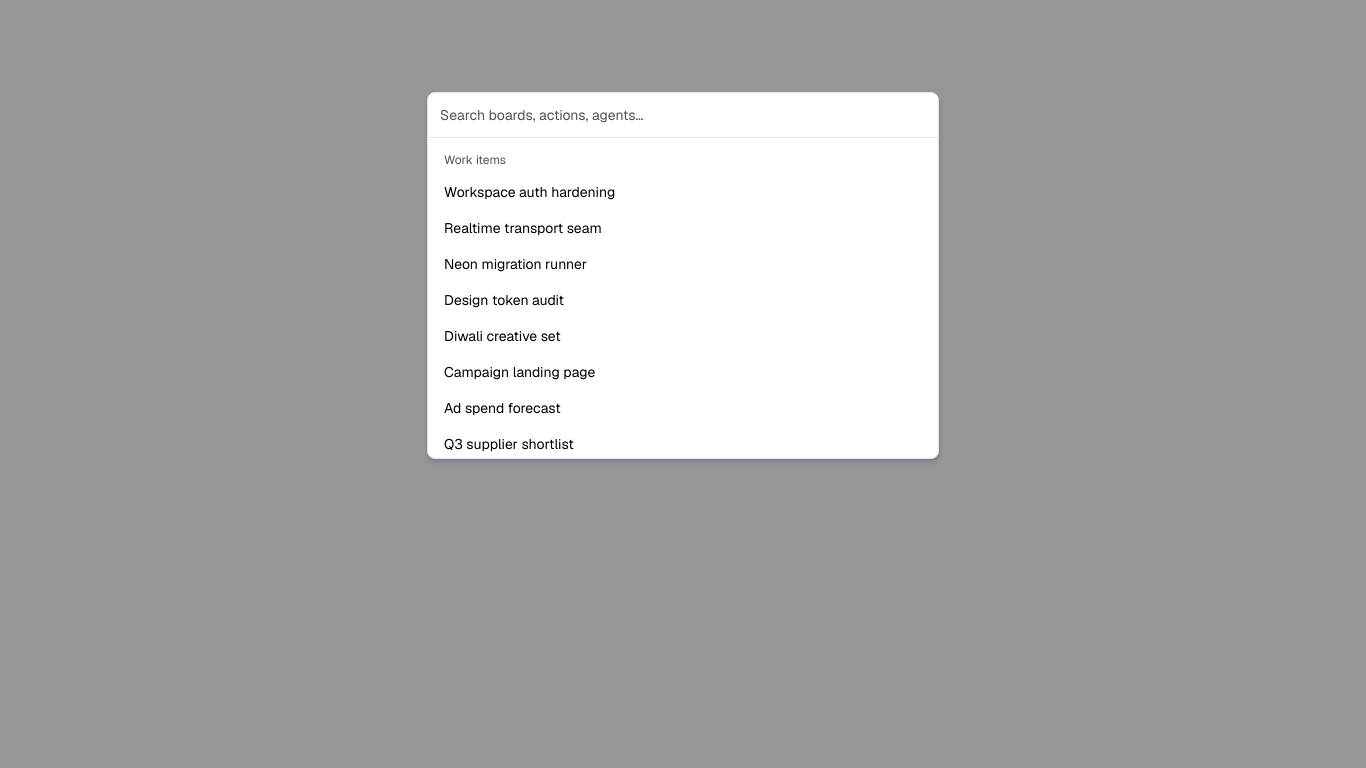
CommandPalette › matches a work item by its id (open-by-id)
Expected: the option "Realtime transport seam" is shown, [444,219,602,237]
# The item's id is folded into the cmdk value, so typing the raw id matches.
Step 1. Type "wi_realtime" into the dropdown → (683,116), box [428,93,938,138]
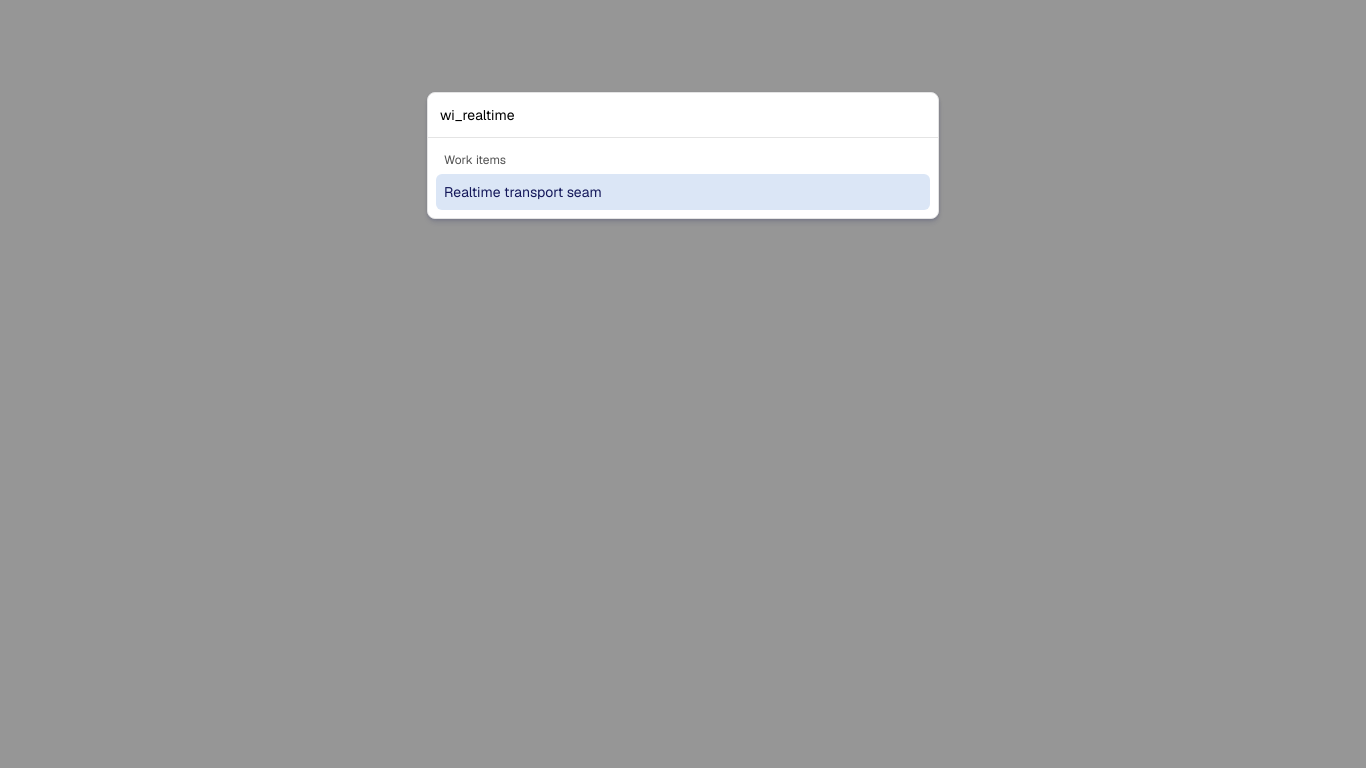
Expected: the option "Realtime transport seam" is shown, [436,174,930,210]
Expected: the option "Workspace auth hardening" is gone
